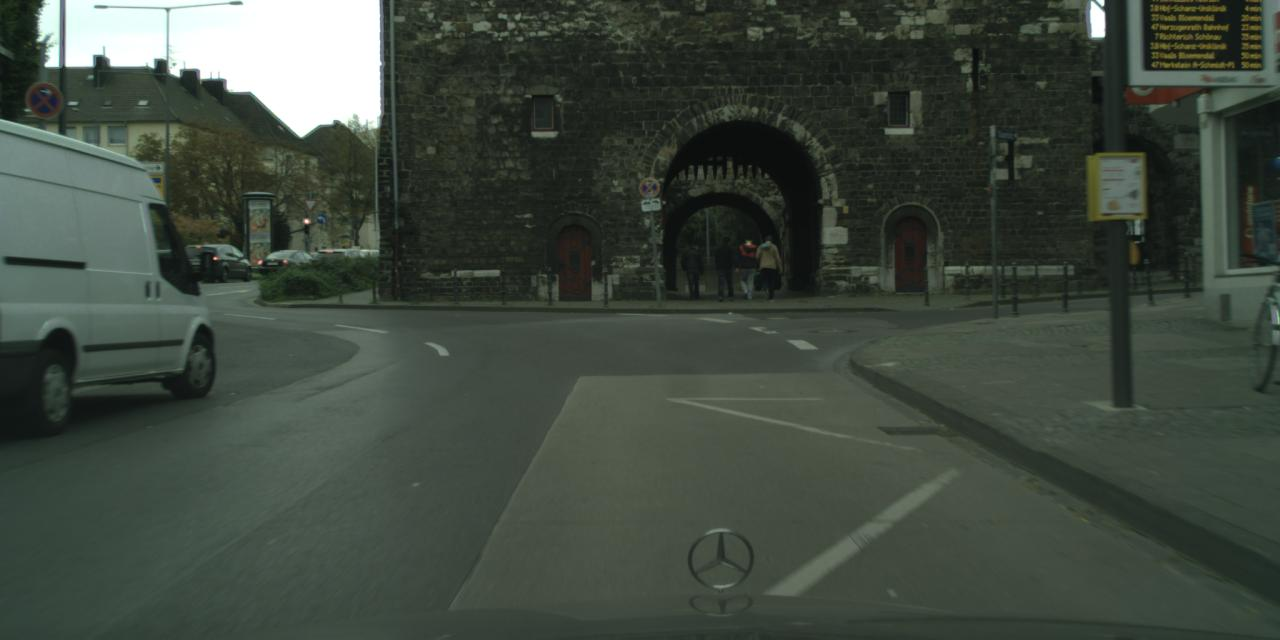ped: (755, 235, 782, 300), (734, 233, 760, 299), (712, 236, 737, 300), (682, 240, 706, 300)
